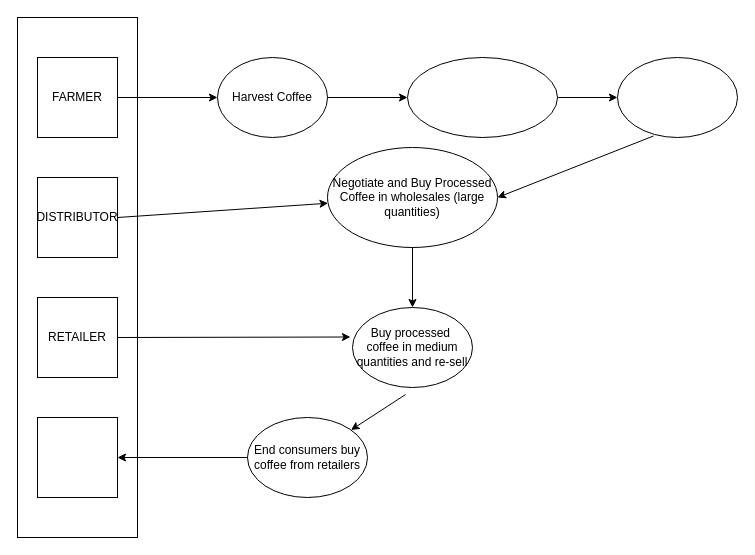
This 755x555 diagram has some shape labels left out. Here are the shapes that lost their labels. From the top down, the box of each, then its label:
(406, 56, 558, 138): Process and Package Coffee
(616, 56, 738, 138): FIND BUYERS
(36, 416, 118, 498): CONSUMER
